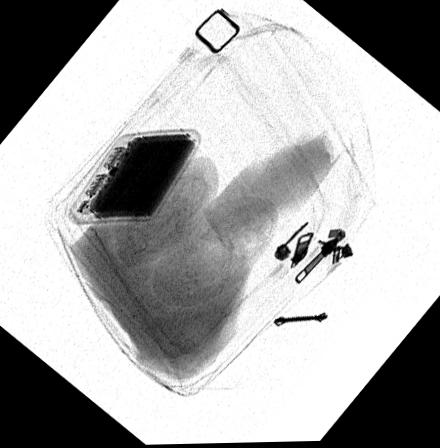Powerbank: (66, 128, 203, 227)
